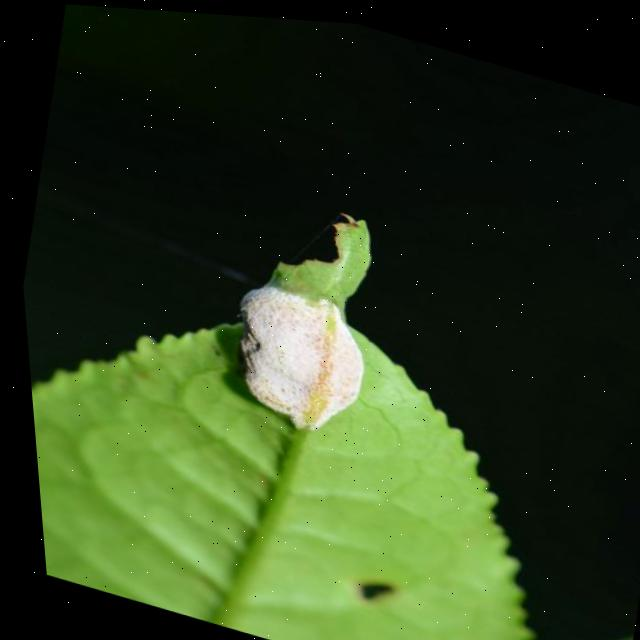Tea cake: (185, 255, 399, 438)
